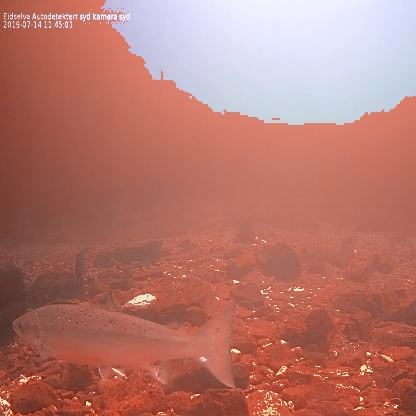salmon: (10, 286, 241, 390)
